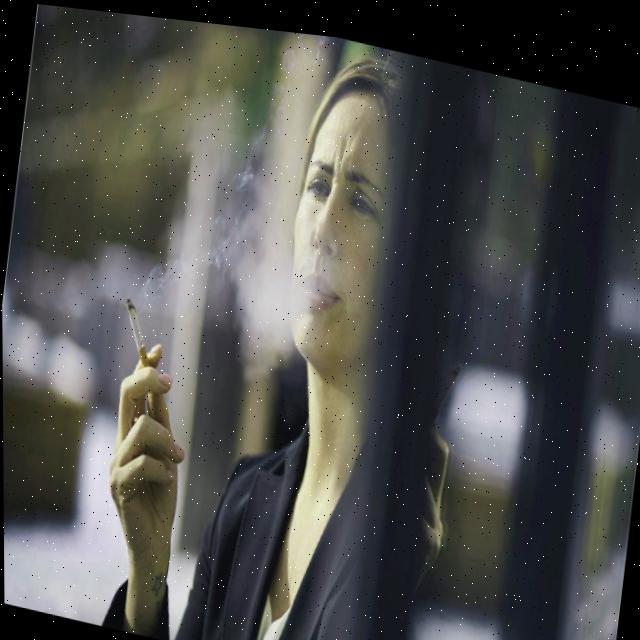cigarette: (125, 298, 148, 367)
